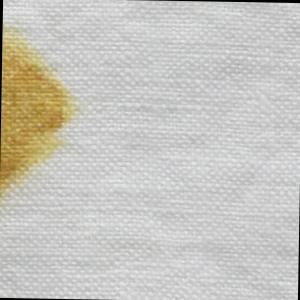Oil Stain: (1, 24, 84, 205)
